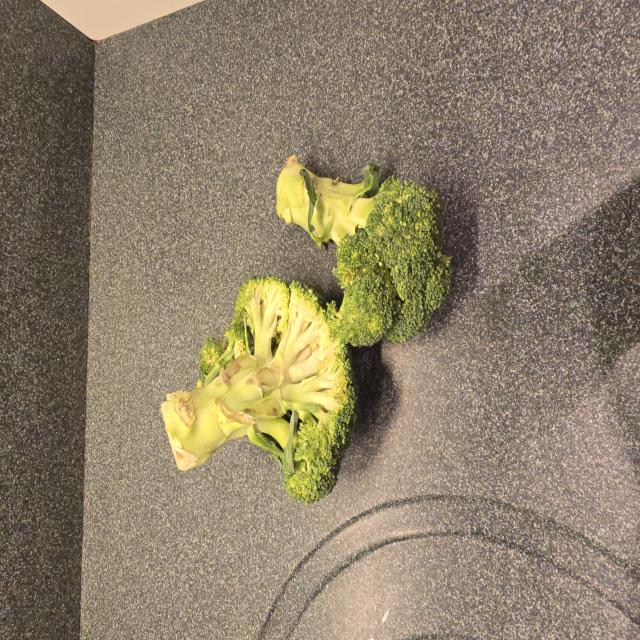Broccoli: (155, 269, 363, 511), (268, 147, 463, 355)
